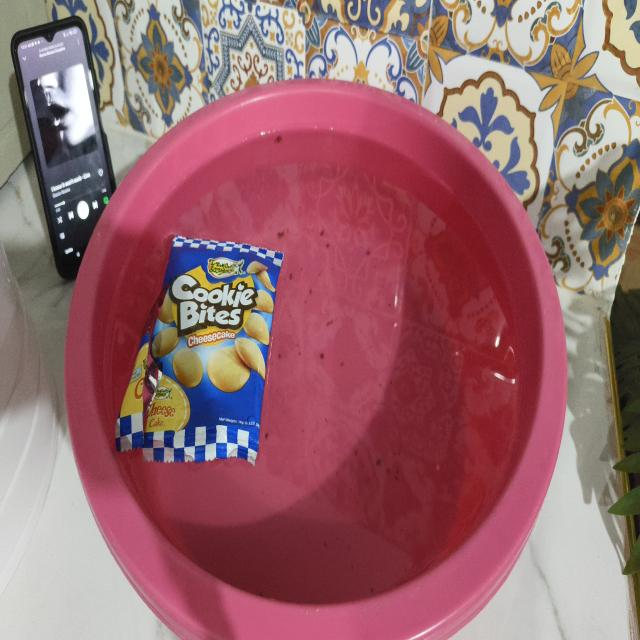Plastic Wrapper: (116, 236, 283, 465)
